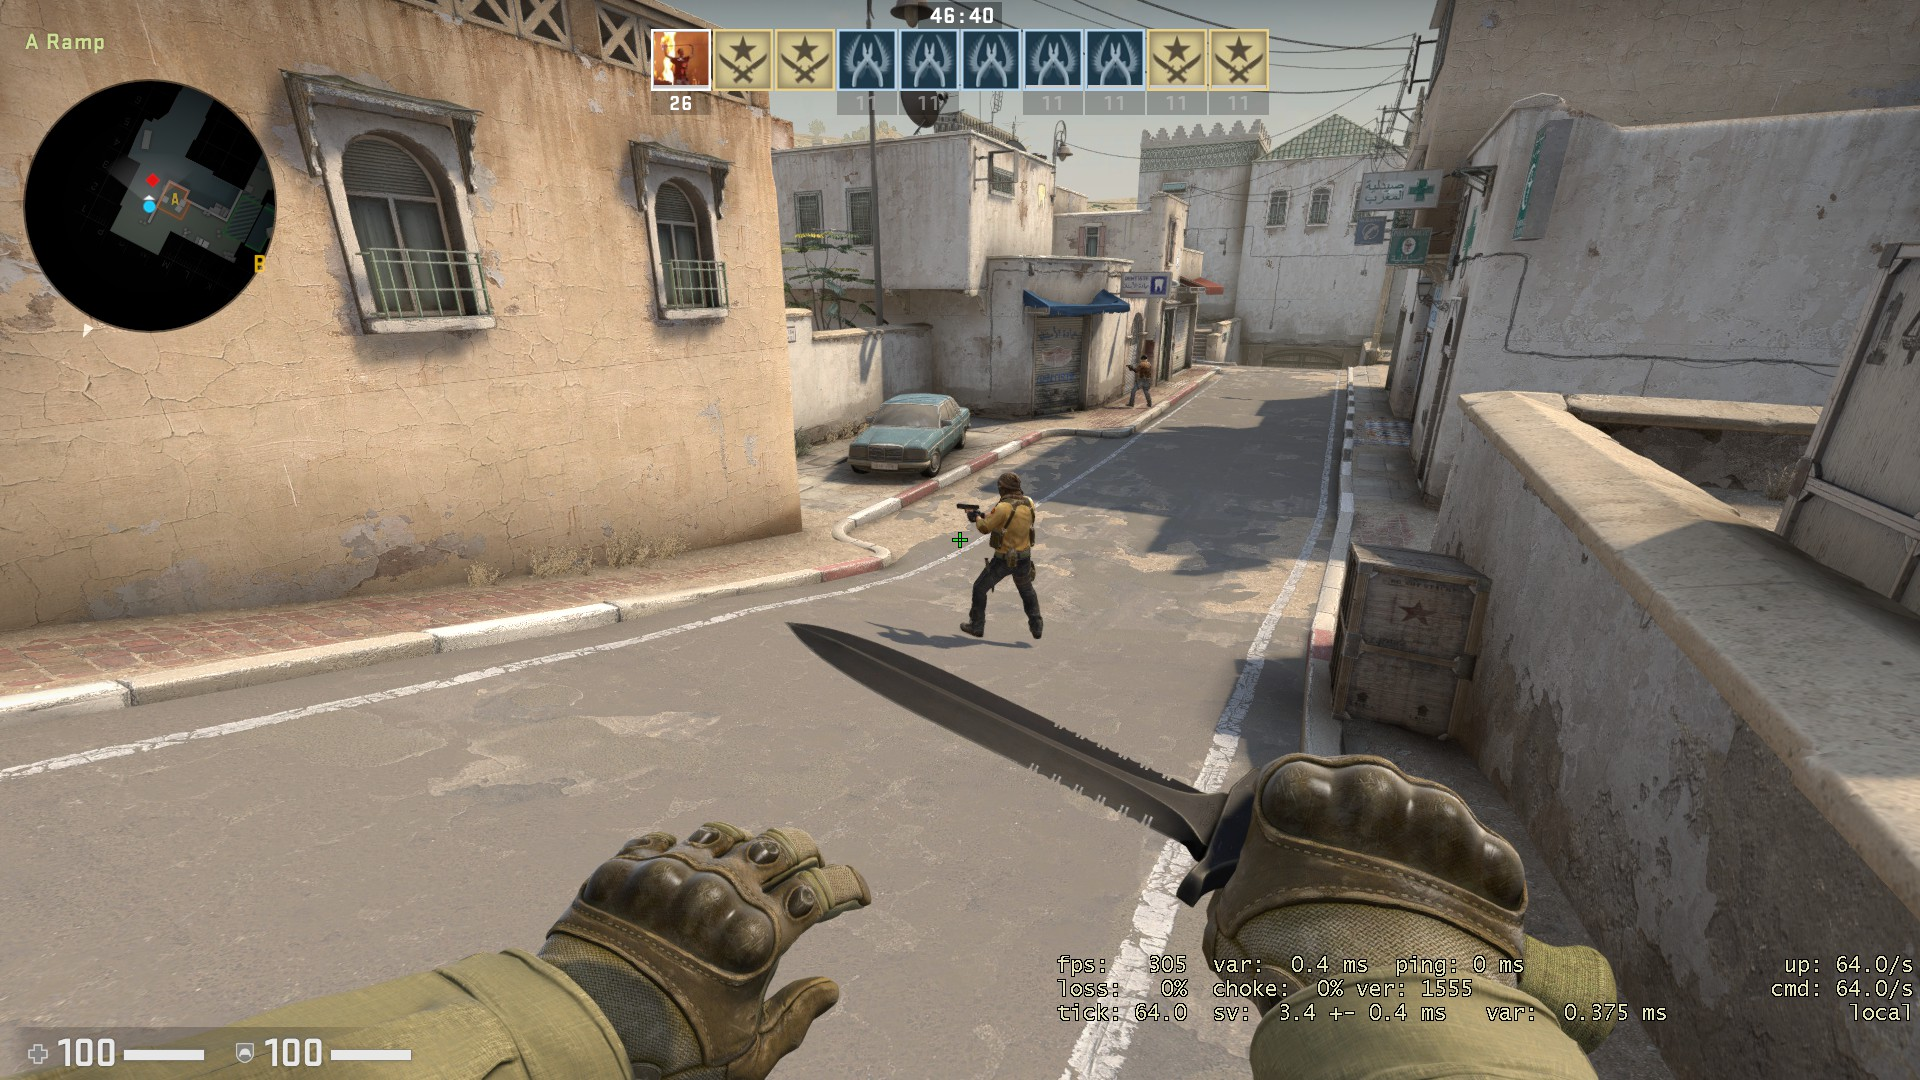player: (954, 468, 1048, 644)
